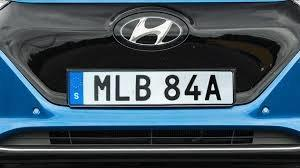license-plates: (68, 71, 235, 106)
